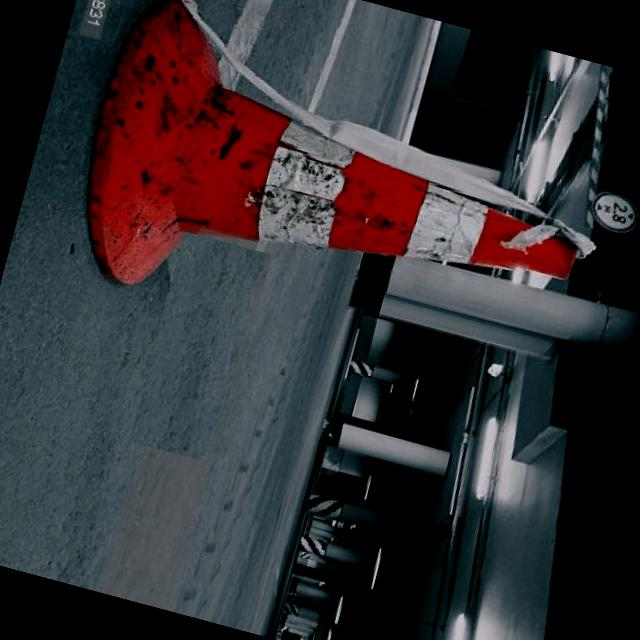cone: (49, 0, 640, 427)
